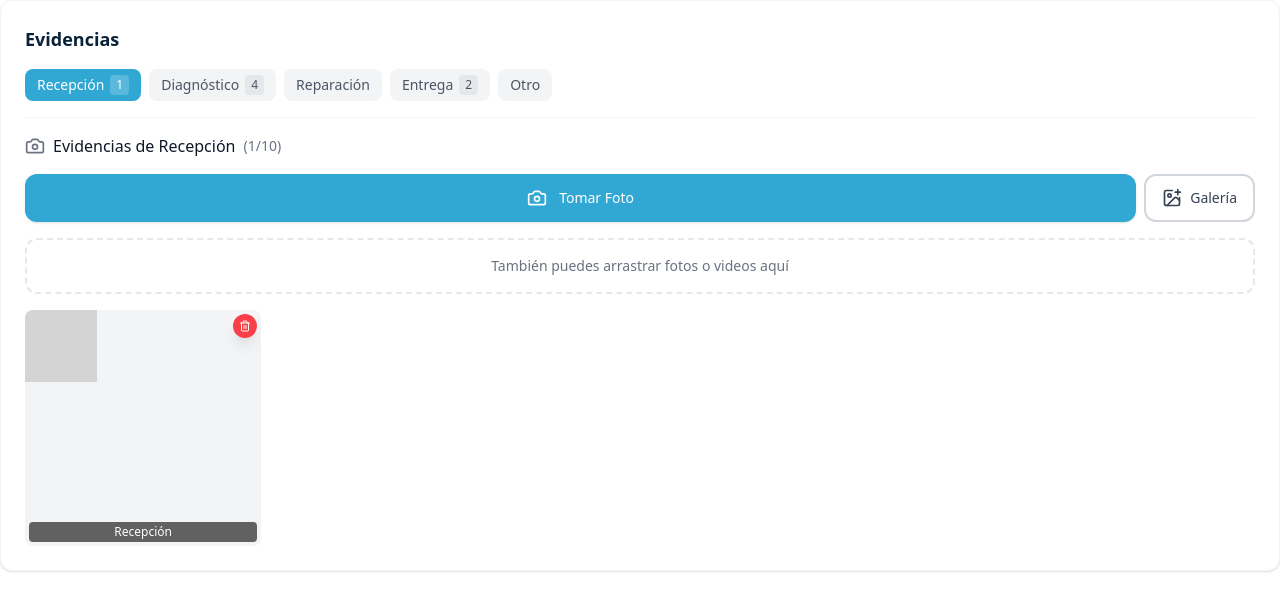
Test: Conteo del badge coincide con fotos mostradas › badge y conteo (N/10) son consistentes en cada tab
Expected: the button "Recepción 1" is shown, top-left (25, 69), bottom-right (141, 101)
Expected: the text "(1/10)" is shown, top-left (244, 136), bottom-right (281, 156)
Click the button "Diagnóstico 4".
click(213, 85)  # box top-left (149, 69), bottom-right (276, 101)
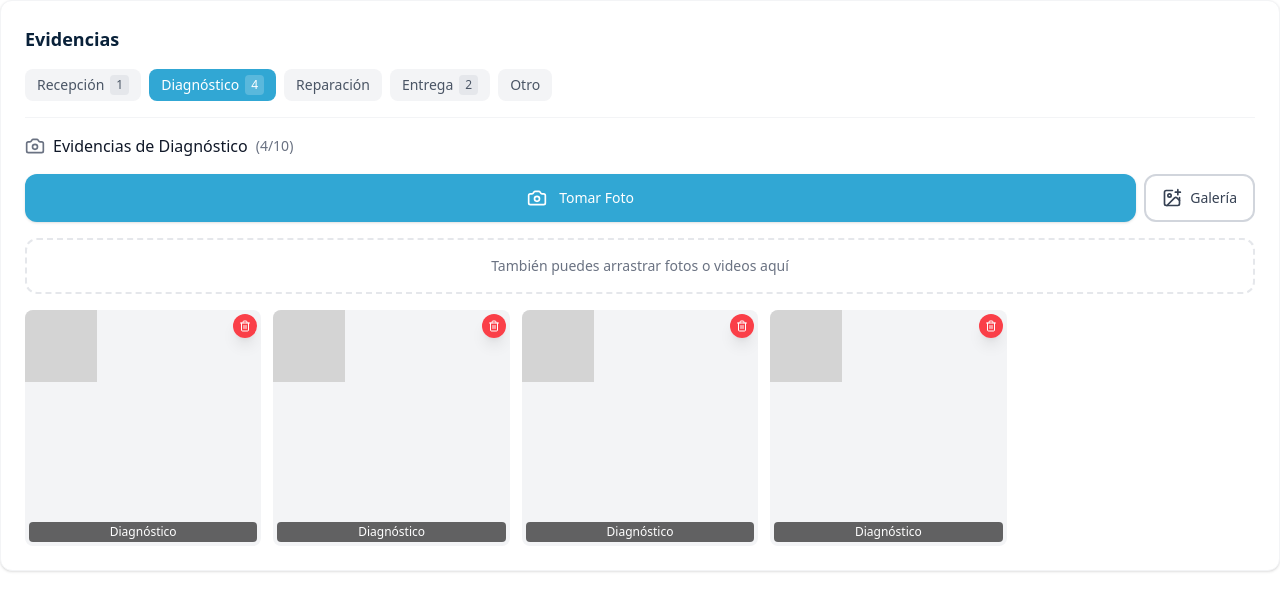
Expected: the text "(4/10)" is shown, top-left (256, 136), bottom-right (293, 156)
Click the button "Entrega 2".
click(440, 85)  # box top-left (390, 69), bottom-right (490, 101)
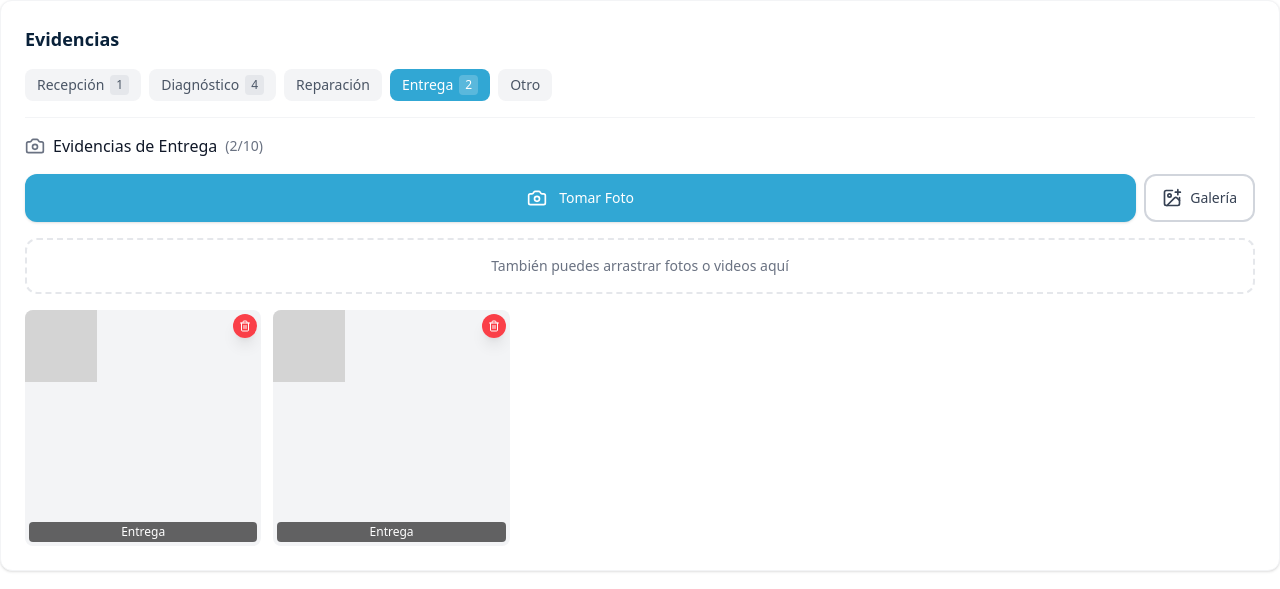
Expected: the text "(2/10)" is shown, top-left (225, 136), bottom-right (263, 156)
Click the button "Reparación".
click(333, 85)  # box top-left (284, 69), bottom-right (382, 101)
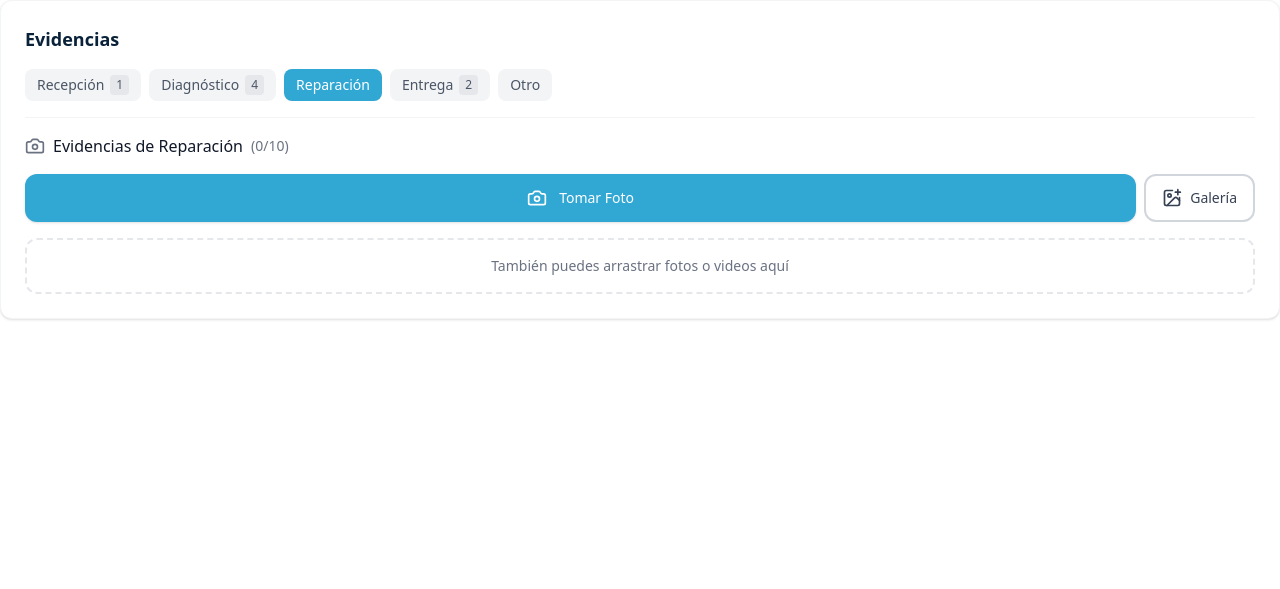
Expected: no pictures are shown
Expected: the text "(0/10)" is shown, top-left (251, 136), bottom-right (289, 156)
